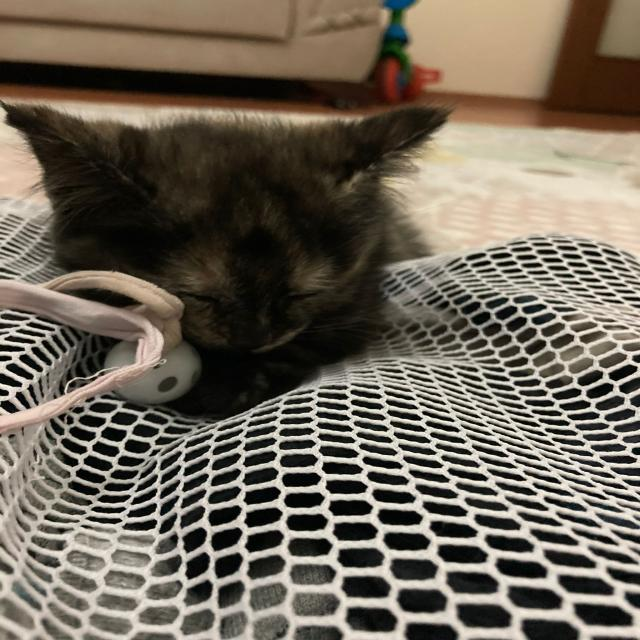authorized: (1, 98, 456, 418)
